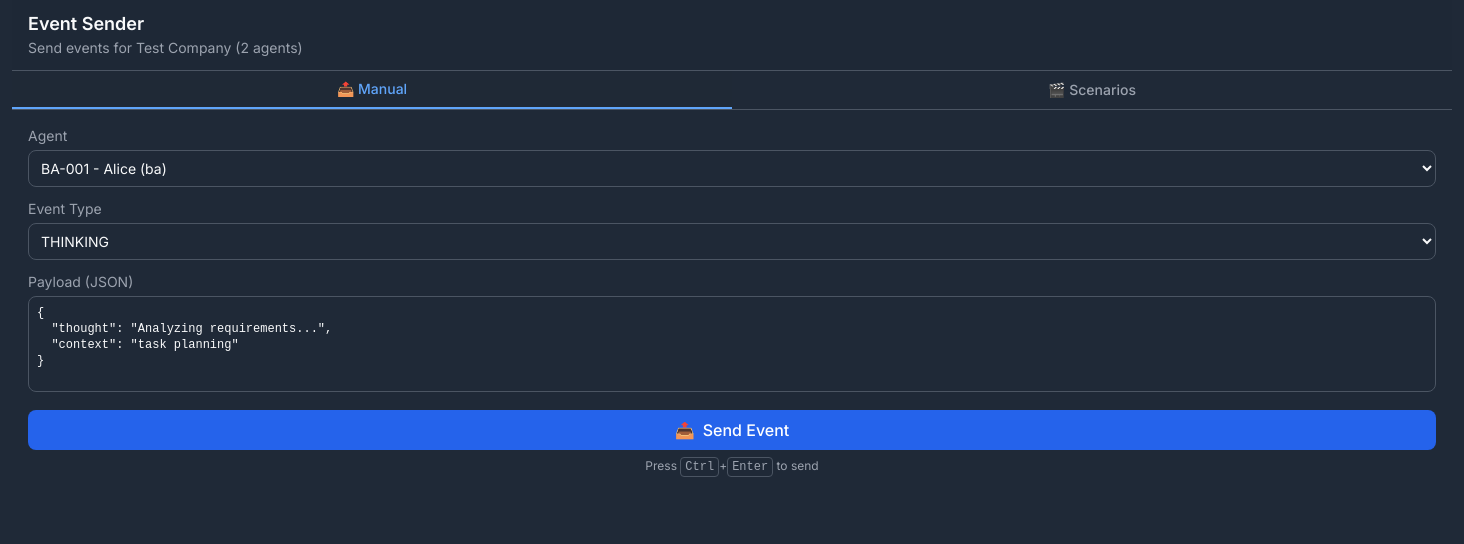
Test: EventSender › AC4: Send event › shows error message on API failure
This screenshot has width=1464, height=544.
Click the button "📤 Send Event" at (732, 430), box [28,410,1436,450]
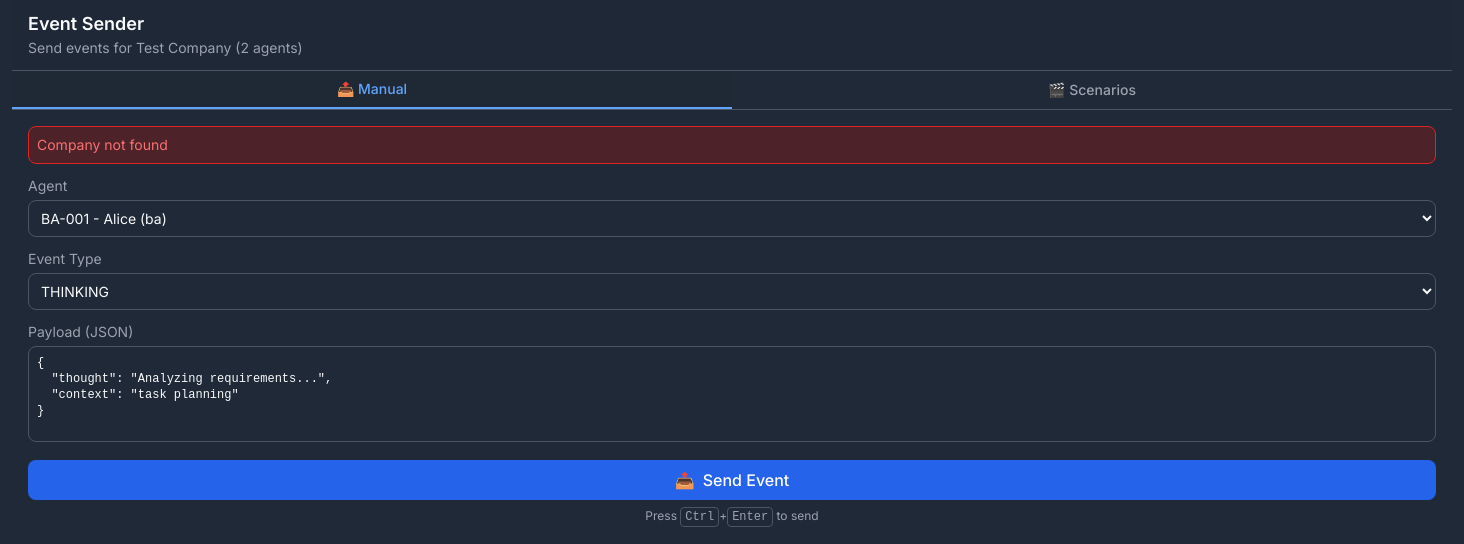
expect the text "Company not found" is shown: met, box [28,126,1436,164]
